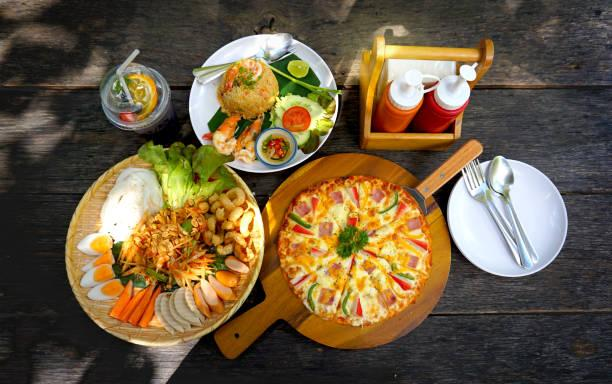Braised Crucian Carp: (222, 148, 456, 356), (64, 151, 256, 346), (188, 34, 336, 174)
